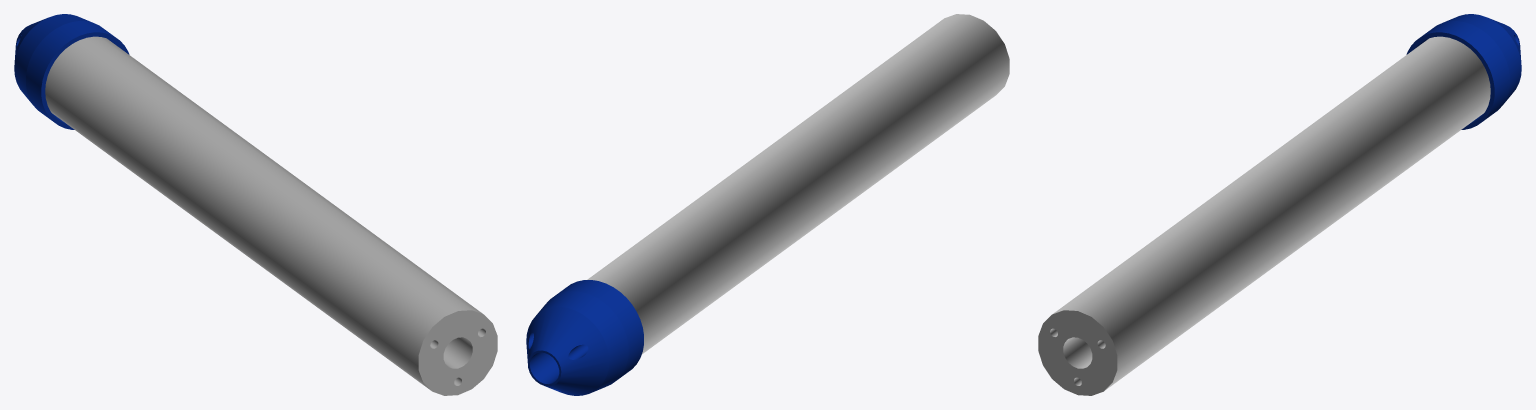
3 renders of one model, left to right at view 1: azimuth 30°, elevation 25°; view 2: azimuth 150°, elevation 25°; view 3: azimuth 330°, elevation 25°, orthographic.
Parts seen in each view (by area): view 1: Boss_Extrude1, Cut_Extrude1; view 2: Boss_Extrude1, Cut_Extrude1; view 3: Boss_Extrude1, Cut_Extrude1.
Boxes of the visible parts, x1,y1,x2,y2 form: Boss_Extrude1: [45, 36, 497, 395]; Cut_Extrude1: [14, 14, 129, 129]; Boss_Extrude1: [587, 14, 1009, 354]; Cut_Extrude1: [526, 280, 643, 395]; Boss_Extrude1: [1038, 36, 1490, 395]; Cut_Extrude1: [1406, 14, 1521, 129].
Size of the model in its own units: 0.2668 by 0.2677 by 2.17.
